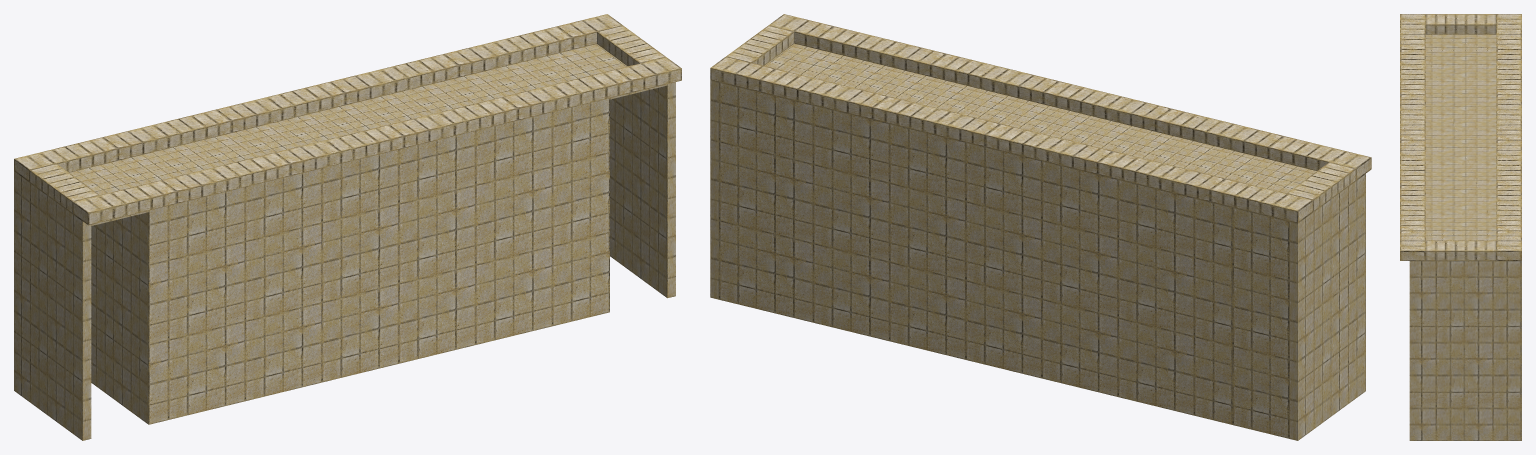
The model's file is bridge_structure_final_gate_facade_side.dae.
3 views of the same model, side by side, from view 1: azimuth 30°, elevation 25°; view 2: azimuth 150°, elevation 25°; view 3: azimuth 270°, elevation 25° (orthographic). The views are drawn at different scales.
Visible parts, largest first — view 1: bridge_structure_final_gate_facade_side; view 2: bridge_structure_final_gate_facade_side; view 3: bridge_structure_final_gate_facade_side.
Boxes of the visible parts, x1=… form: bridge_structure_final_gate_facade_side: x1=14, y1=14, x2=681, y2=440; bridge_structure_final_gate_facade_side: x1=710, y1=14, x2=1371, y2=440; bridge_structure_final_gate_facade_side: x1=1400, y1=14, x2=1521, y2=440.
Bounding box in the file's own units: 30.4 × 6.6 × 11.36.
Materials: 3 (3 with a texture image).
